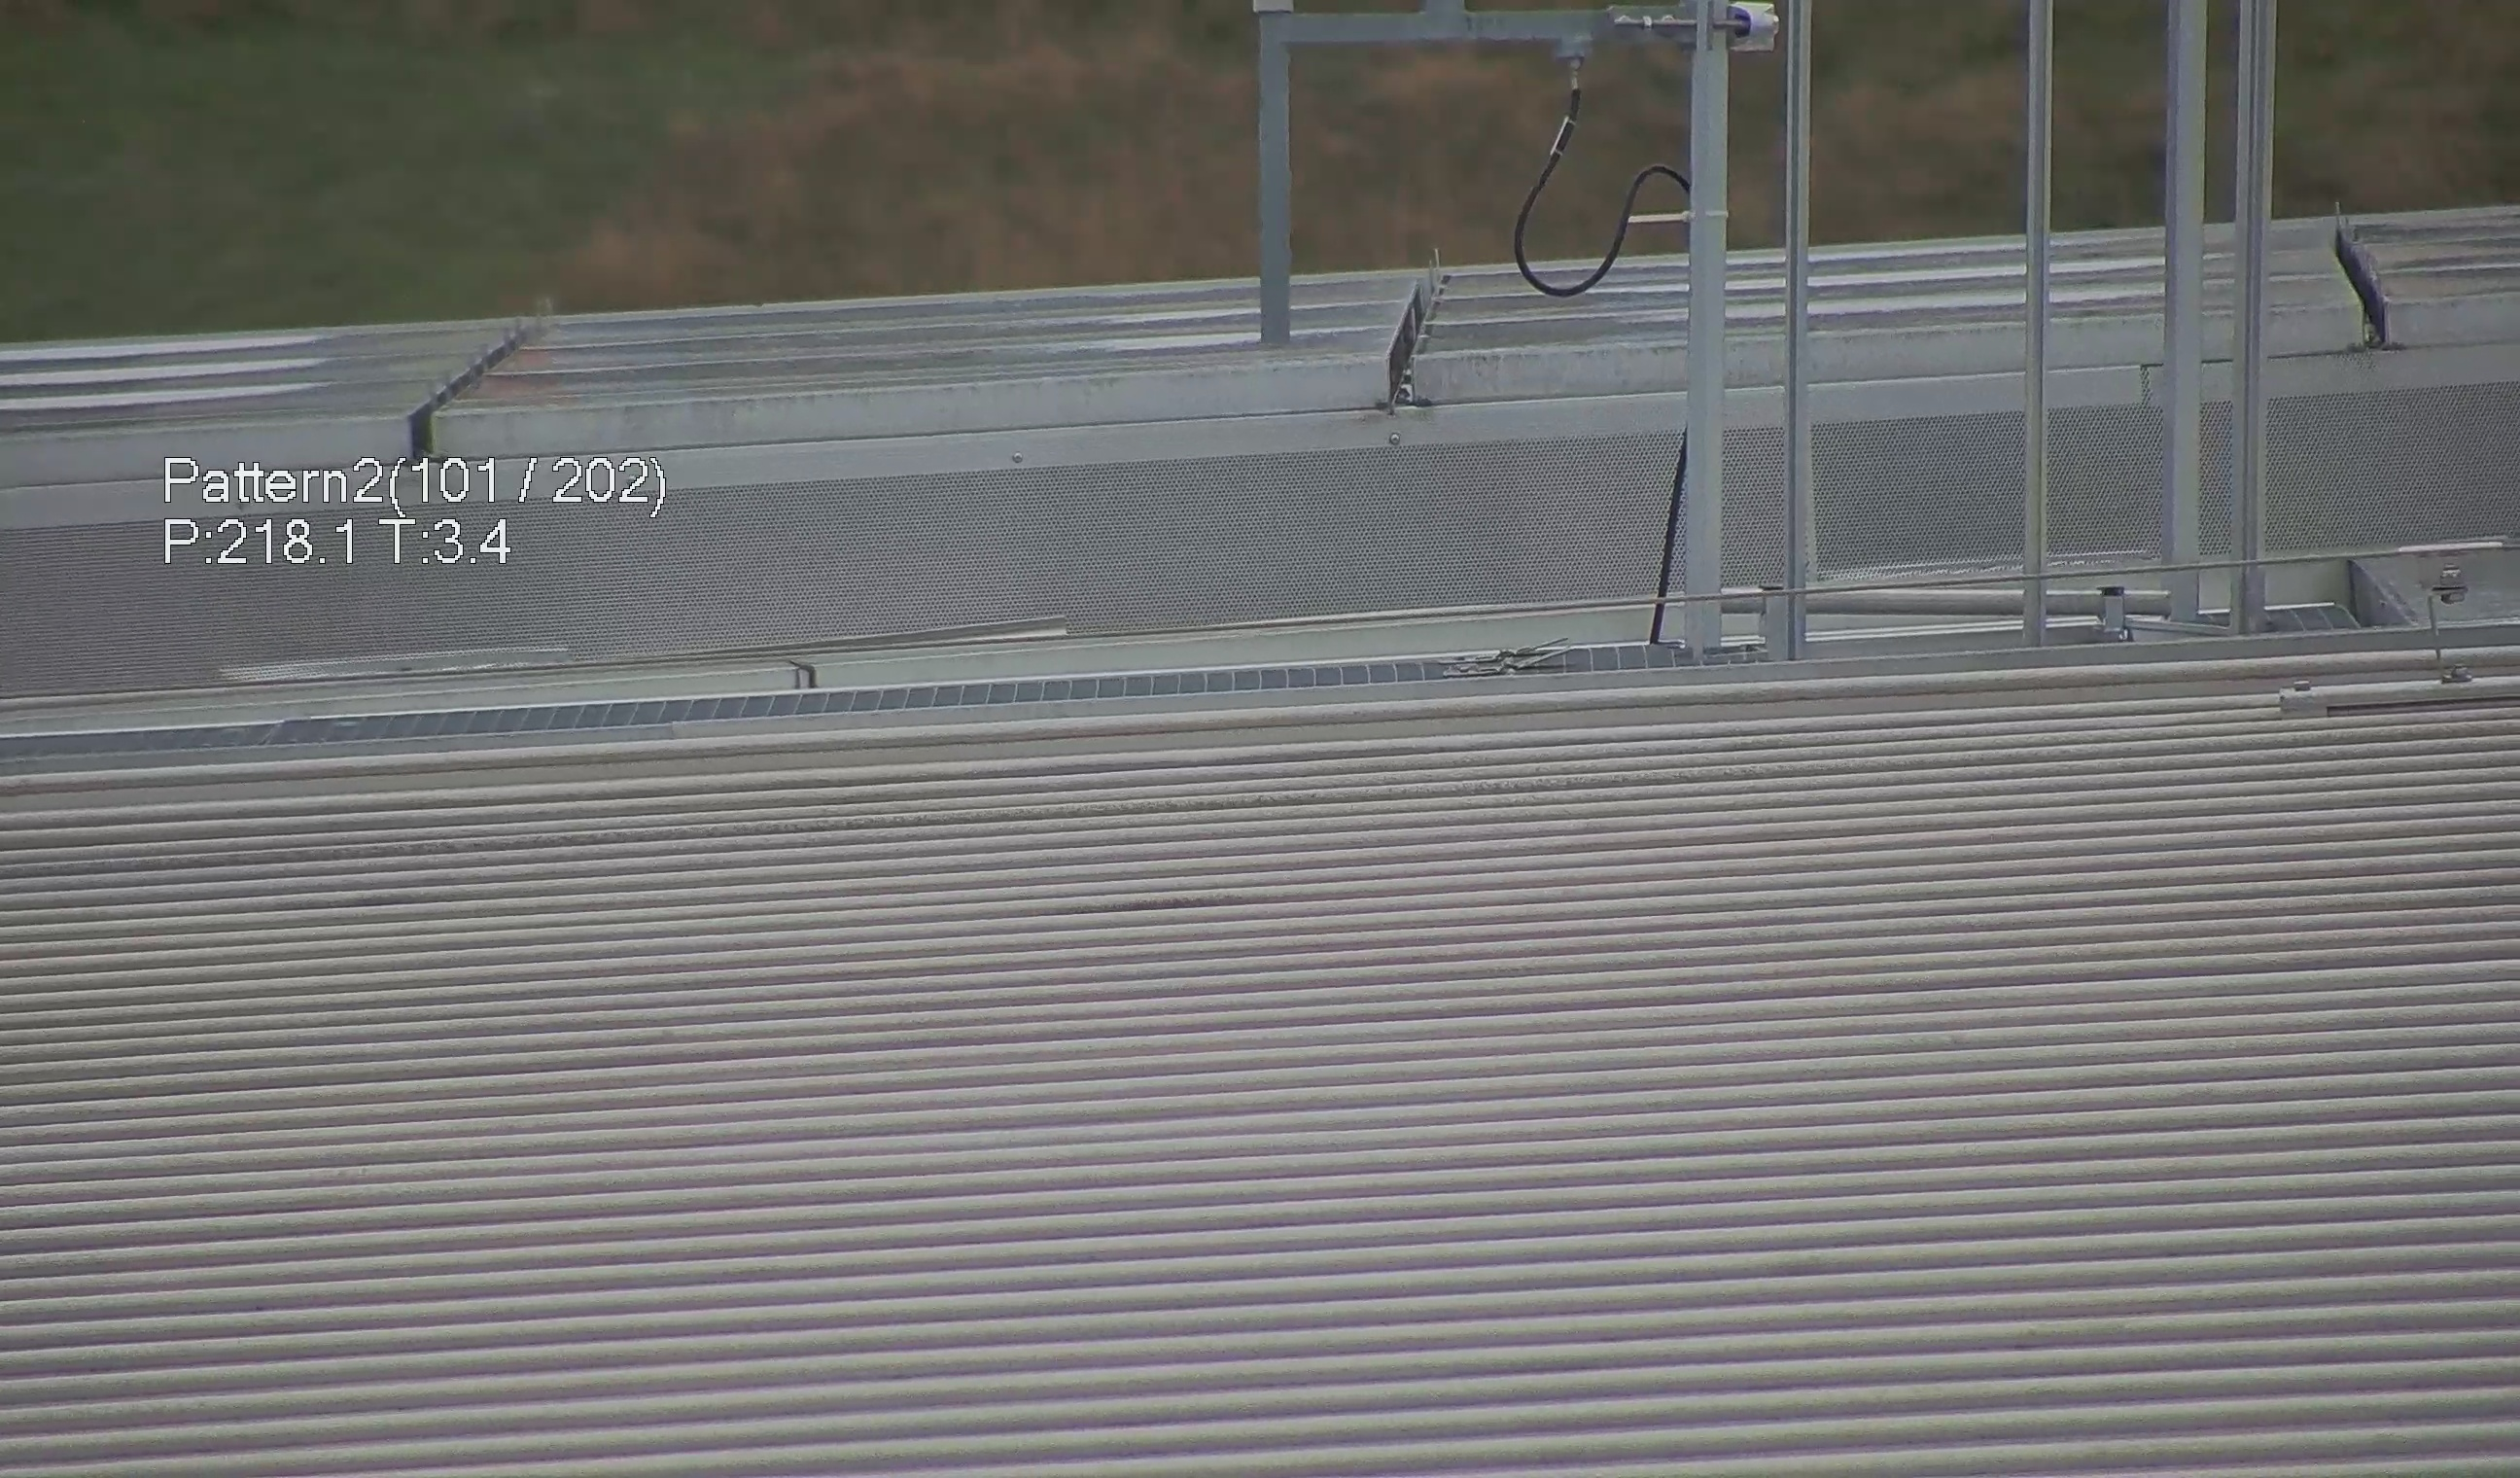Other: (2334, 188, 2407, 355)
